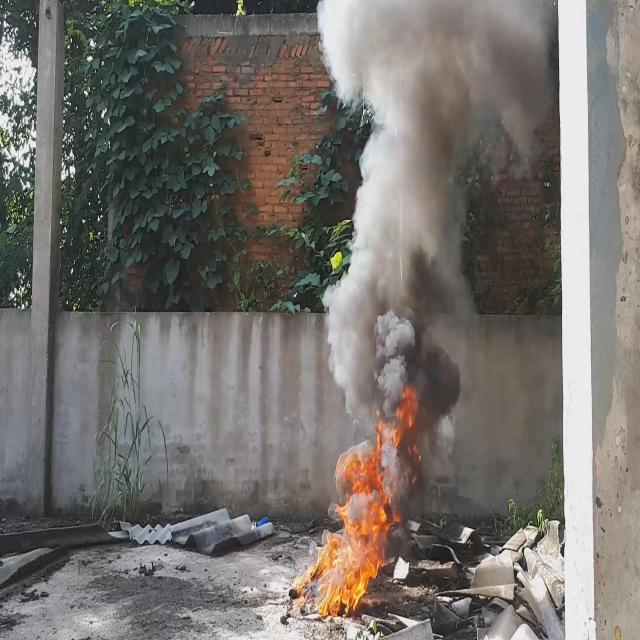Fire: (316, 388, 422, 619)
Smoke: (317, 0, 555, 429)
